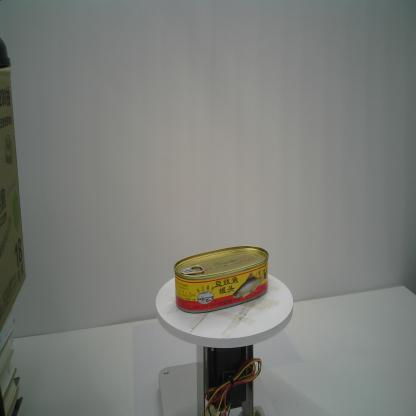Canned Food: (173, 244, 270, 315)
